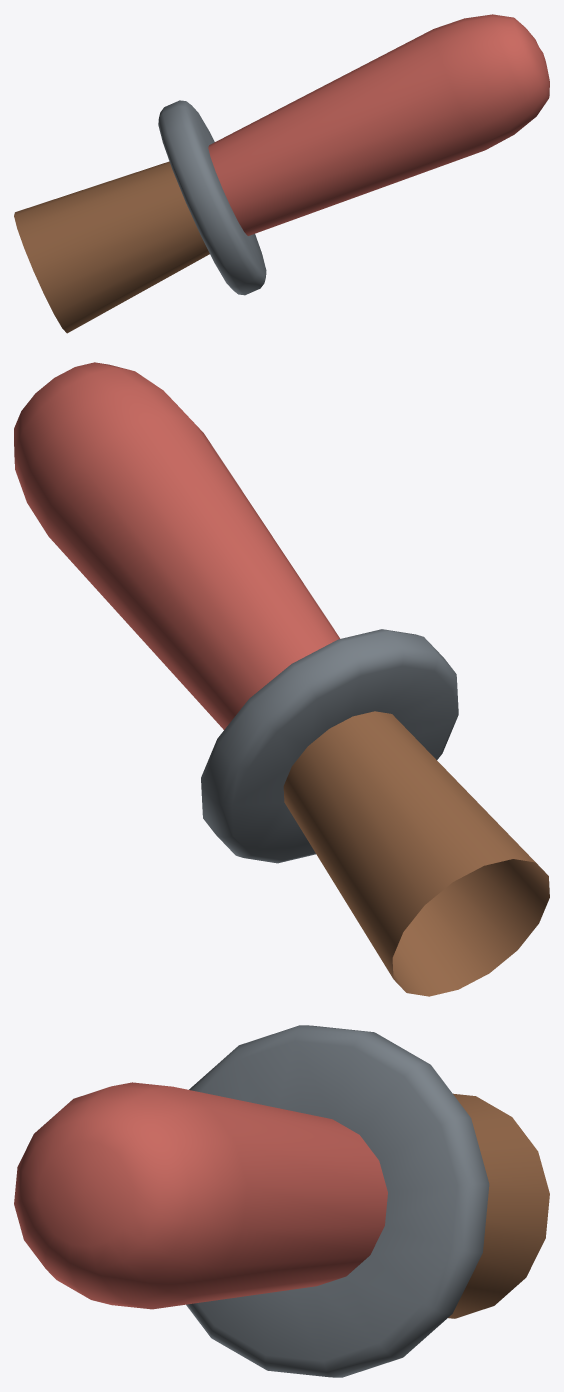
Rendered from Tea_Lever.fbx.
3 views of the same model, one above another, from view 1: azimuth 30°, elevation 25°; view 2: azimuth 150°, elevation 25°; view 3: azimuth 270°, elevation 25° (orthographic). The views are drawn at different scales.
Visible parts, largest first — view 1: Tea_Lever_Switch; view 2: Tea_Lever_Switch; view 3: Tea_Lever_Switch.
Part boxes in pixels (box(x1,y1,x2,y2)): Tea_Lever_Switch: box(14, 14, 549, 333); Tea_Lever_Switch: box(14, 362, 549, 996); Tea_Lever_Switch: box(14, 1025, 549, 1377).
Size of the model in its own units: 12.75 by 8.02 by 7.81.
